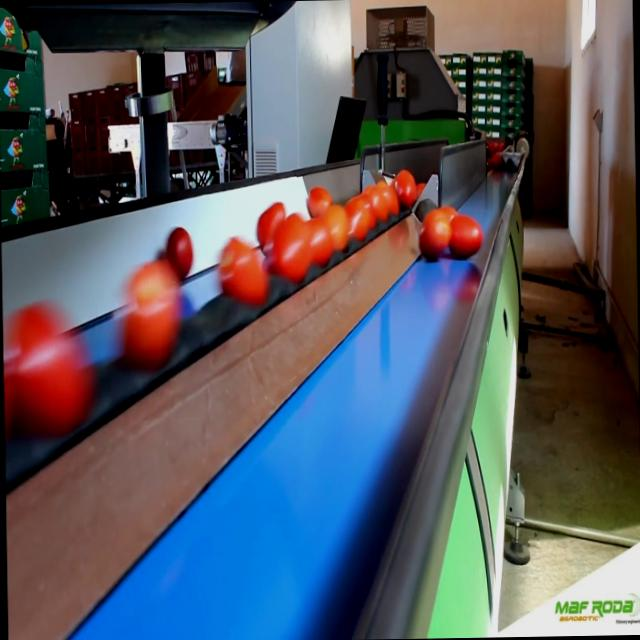Tomato: (11, 306, 94, 428), (127, 271, 179, 362), (216, 238, 268, 308), (271, 212, 308, 282), (447, 212, 484, 258), (417, 208, 450, 259), (255, 200, 284, 252), (165, 227, 192, 278), (300, 218, 332, 260), (342, 196, 369, 243), (324, 205, 348, 247), (391, 170, 415, 207), (362, 186, 386, 219), (308, 185, 329, 212), (437, 206, 456, 218)
